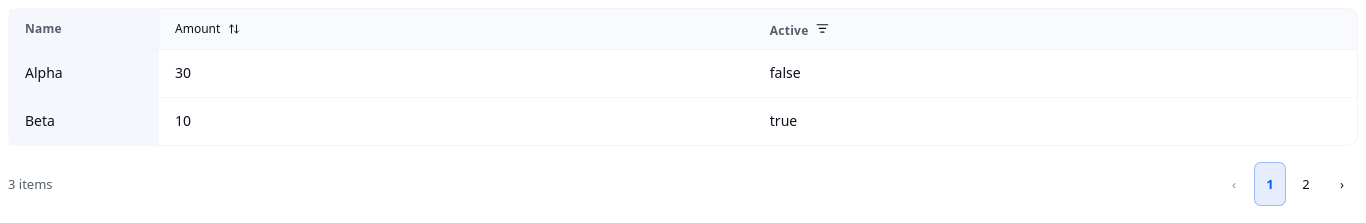
Test case: sorts before pagination, filters multiple values including false, and resets page
Click the button "Amount".
click(208, 29)  # box [175,19,240,39]
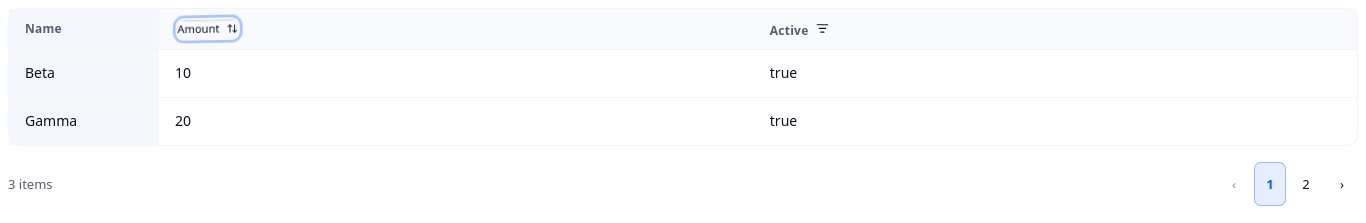
Expected: the text "Beta" is shown, [25,63,55,82]
Result: the text "Alpha" is gone
Click the button named "Next page".
click(1342, 184)  # box [1326,162,1358,206]
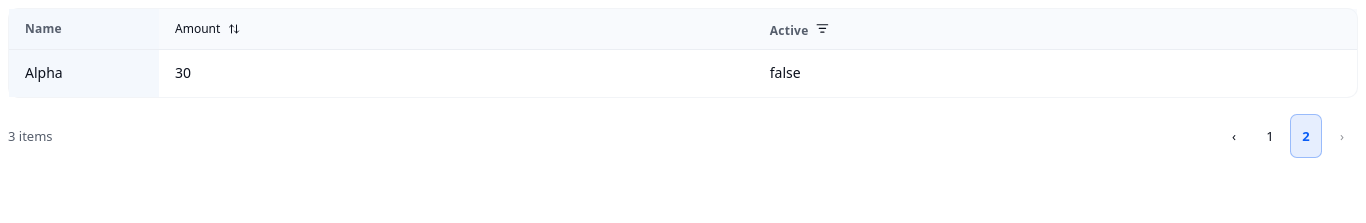
Result: the text "Alpha" is shown at [25,63,63,82]
Click the button named "Filter Active".
click(822, 29)  # box [808,15,836,43]
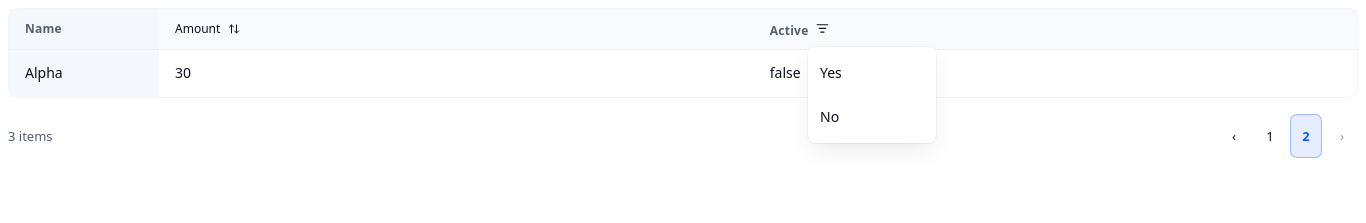
Click the menu item "No".
click(830, 116)  # box [820,107,839,126]
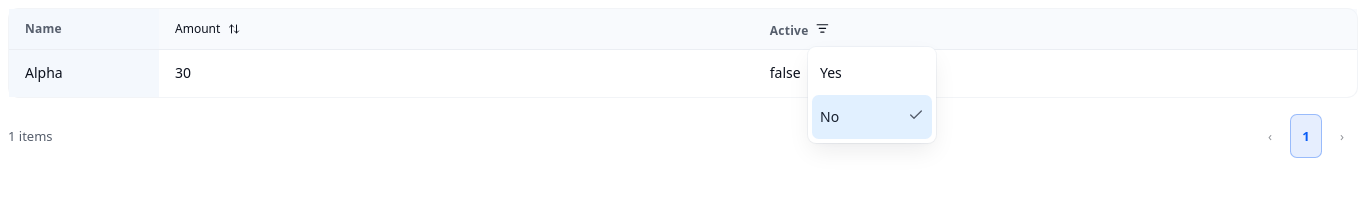
Expected: the text "Beta" is not shown
Result: the text "Alpha" is shown at [25,63,63,82]
Click the menu item "Yes".
click(831, 72)  # box [820,63,842,82]
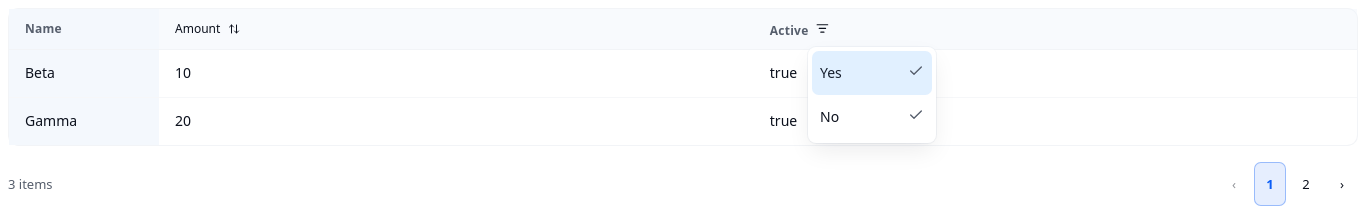
Result: the text "Beta" is shown at [25,63,55,82]
